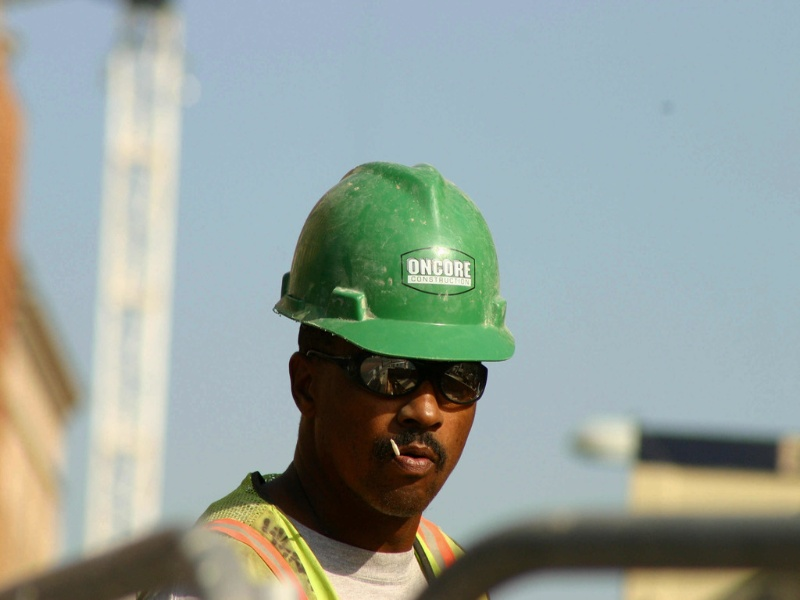Baret: (287, 160, 515, 361)
